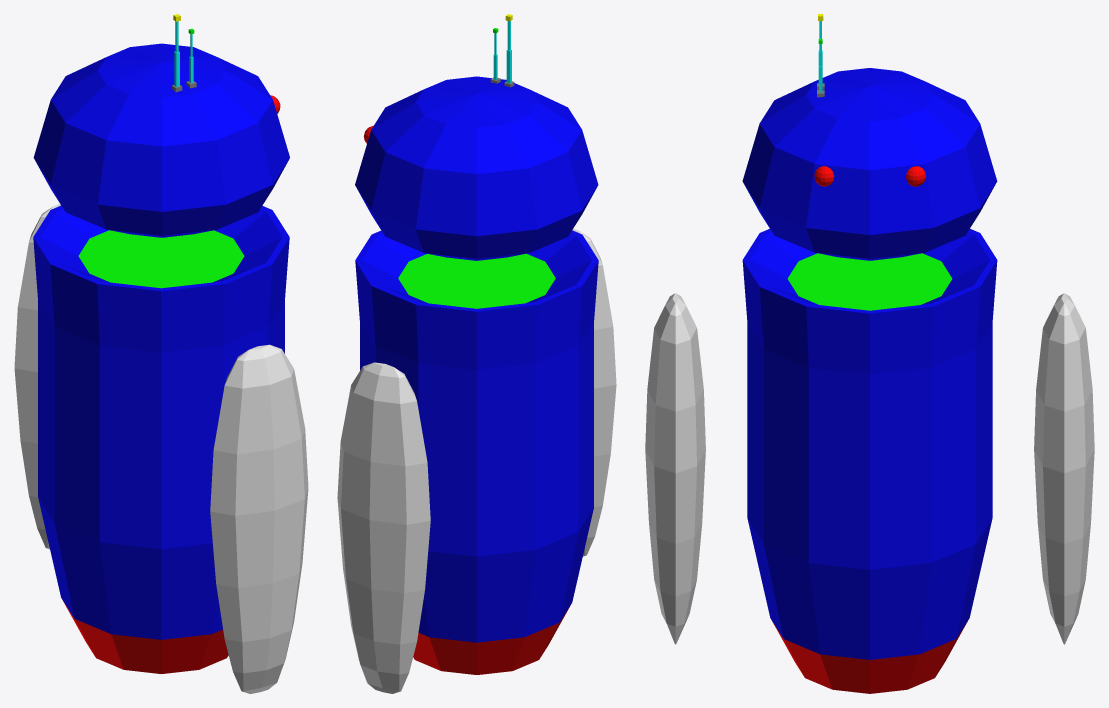
Rendered from Robot.fbx.
The picture shows the model from 3 angles, left to right: view 1: azimuth 30°, elevation 25°; view 2: azimuth 150°, elevation 25°; view 3: azimuth 270°, elevation 25°; orthographic projection. The views are drawn at different scales.
Parts seen in each view (by area): view 1: Body, Head, RightArm, LeftArm; view 2: Body, Head, LeftArm, RightArm; view 3: Body, Head, LeftArm, RightArm.
Boxes of the visible parts, left/top/right/bottom form: Body: left=33, top=205, right=289, bottom=673; Head: left=33, top=14, right=289, bottom=237; RightArm: left=210, top=344, right=308, bottom=693; LeftArm: left=14, top=204, right=60, bottom=549; Body: left=355, top=230, right=598, bottom=674; Head: left=355, top=14, right=598, bottom=260; LeftArm: left=337, top=362, right=430, bottom=693; RightArm: left=572, top=228, right=616, bottom=556; Body: left=742, top=229, right=997, bottom=693; Head: left=742, top=14, right=997, bottom=260; LeftArm: left=1034, top=293, right=1094, bottom=644; RightArm: left=645, top=293, right=705, bottom=644.
Size of the model in its own units: 90.37 by 251 by 159.
